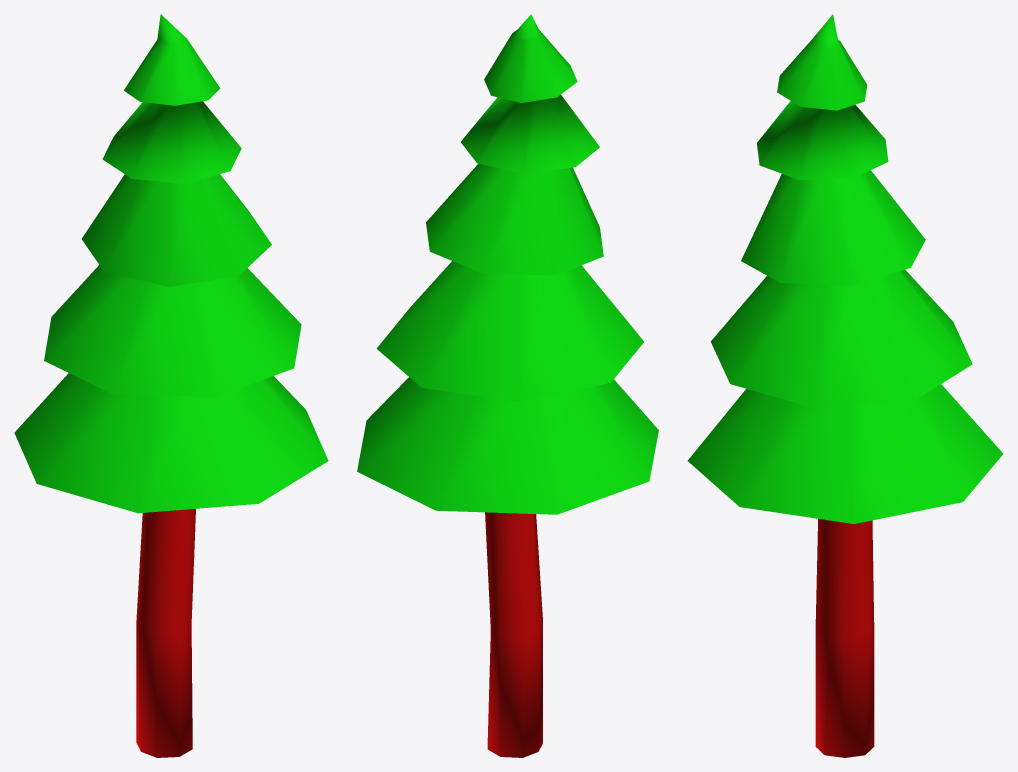
File: PineTree1.fbx
3 views of the same model, side by side, from view 1: azimuth 30°, elevation 25°; view 2: azimuth 150°, elevation 25°; view 3: azimuth 270°, elevation 25° (orthographic).
Visible parts, largest first — view 1: PineTree1; view 2: PineTree1; view 3: PineTree1.
Part boxes in pixels (box(x1,y1,x2,y2)): PineTree1: box(14, 14, 328, 757); PineTree1: box(357, 14, 658, 757); PineTree1: box(687, 14, 1003, 757).
Bounding box in the file's own units: 389 × 989 × 389.
